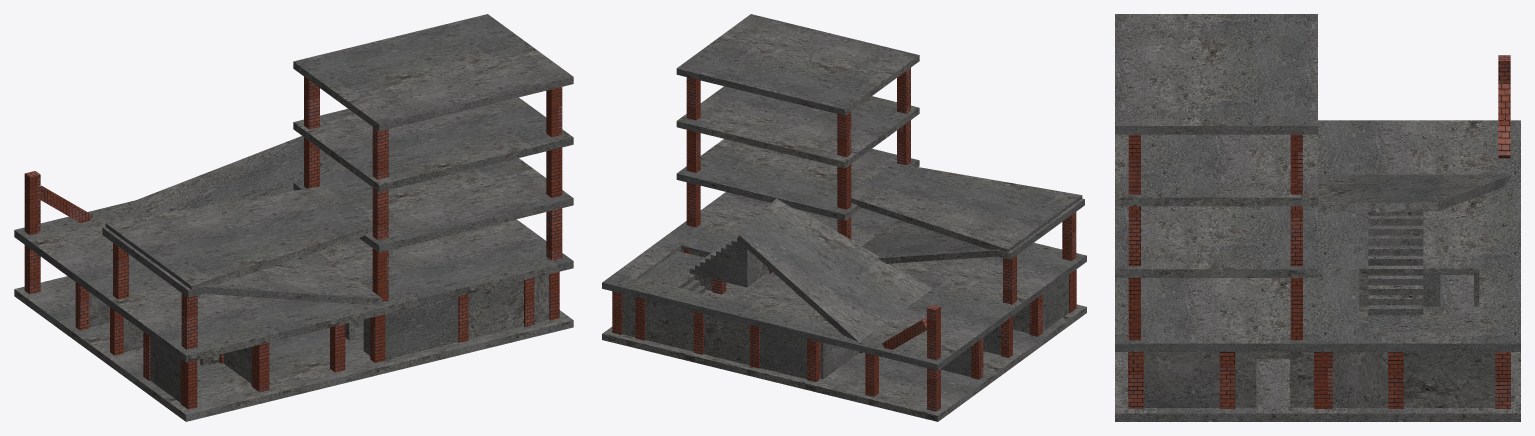
Rendered from Construction_Building.fbx.
The picture shows the model from 3 angles, left to right: view 1: azimuth 30°, elevation 25°; view 2: azimuth 150°, elevation 25°; view 3: azimuth 270°, elevation 25°; orthographic projection. The views are drawn at different scales.
Visible parts, largest first — view 1: Construction_Building_1; view 2: Construction_Building_1; view 3: Construction_Building_1.
Boxes of the visible parts, <box> form: Construction_Building_1: <box>14,14,573,421</box>; Construction_Building_1: <box>602,14,1086,421</box>; Construction_Building_1: <box>1115,14,1520,421</box>.
Bounding box in the file's own units: 2600 × 1606 × 1996.
